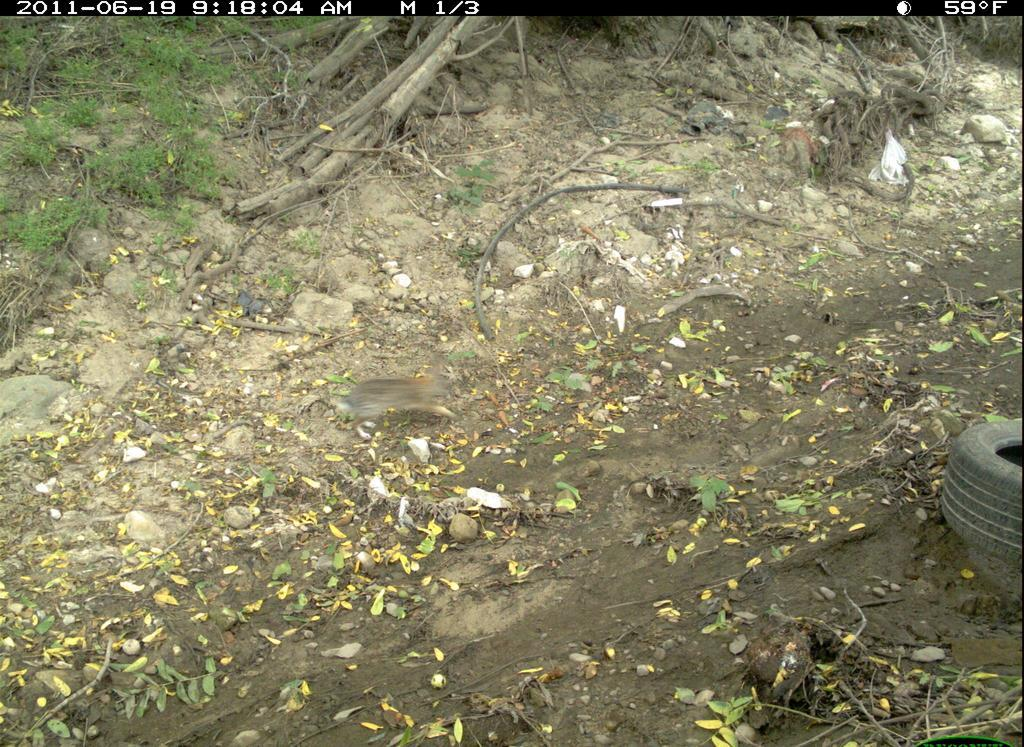rabbit: (328, 361, 466, 446)
